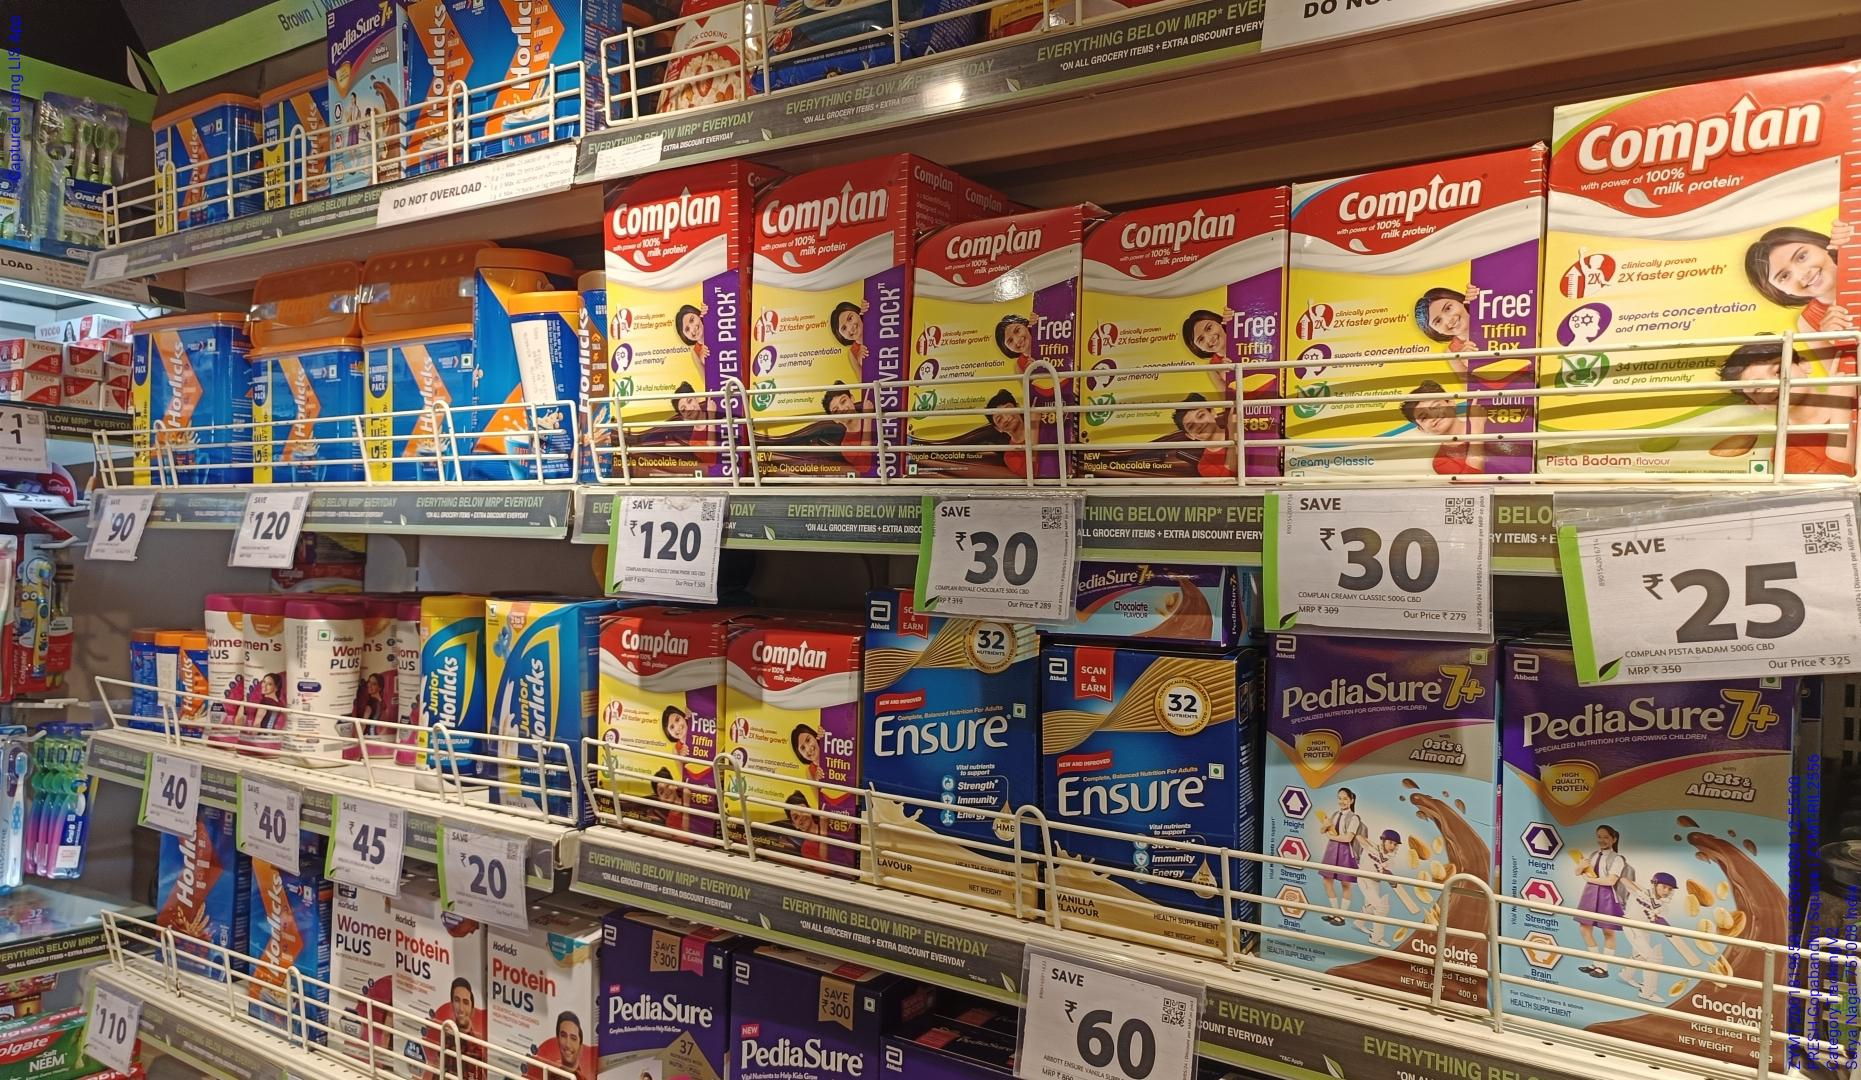HORLICKS_JUNIOR_VANILLA_500_GM_JAR: (418, 595, 487, 782)
HORLICK_MALT_1_KG_CONTAINER: (130, 309, 240, 489), (251, 334, 361, 485), (369, 325, 473, 483)
PEDIASURE_7_PLUS_CHOCOLATE_400_G_PACK: (1497, 690, 1790, 1080), (1258, 636, 1495, 972)
